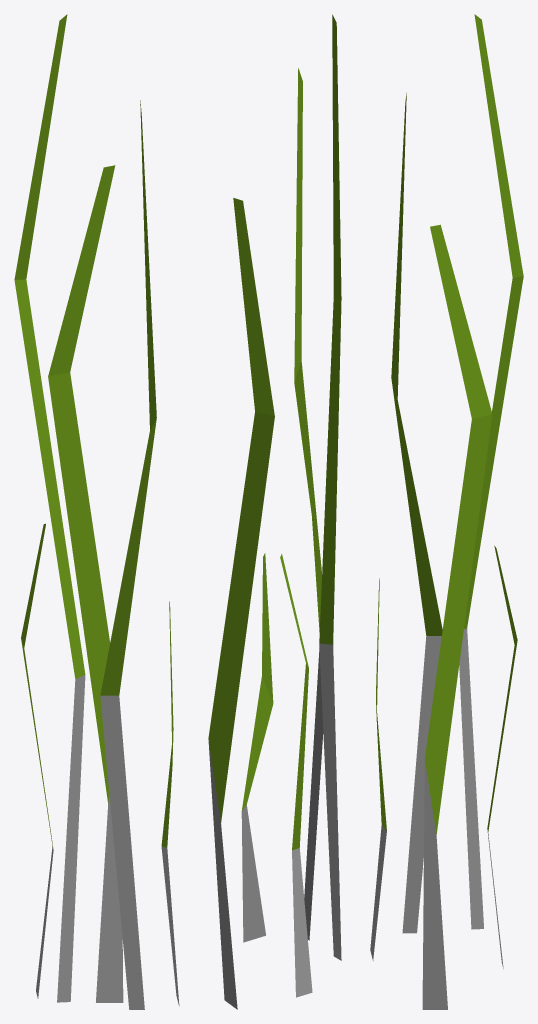
The model's file is erba1.fbx.
3 views of the same model, side by side, from view 1: azimuth 90°, elevation 25°; view 2: azimuth 210°, elevation 25°; view 3: azimuth 270°, elevation 25° (orthographic). The views are drawn at different scales.
Visible parts, largest first — view 1: pCube6; view 2: pCube6; view 3: pCube6.
Part boxes in pixels (bbox=[...]): pCube6: bbox=[14, 14, 179, 1009]; pCube6: bbox=[208, 14, 341, 1009]; pCube6: bbox=[370, 14, 523, 1009].
Size of the model in its own units: 7.5 by 63.82 by 9.27.
